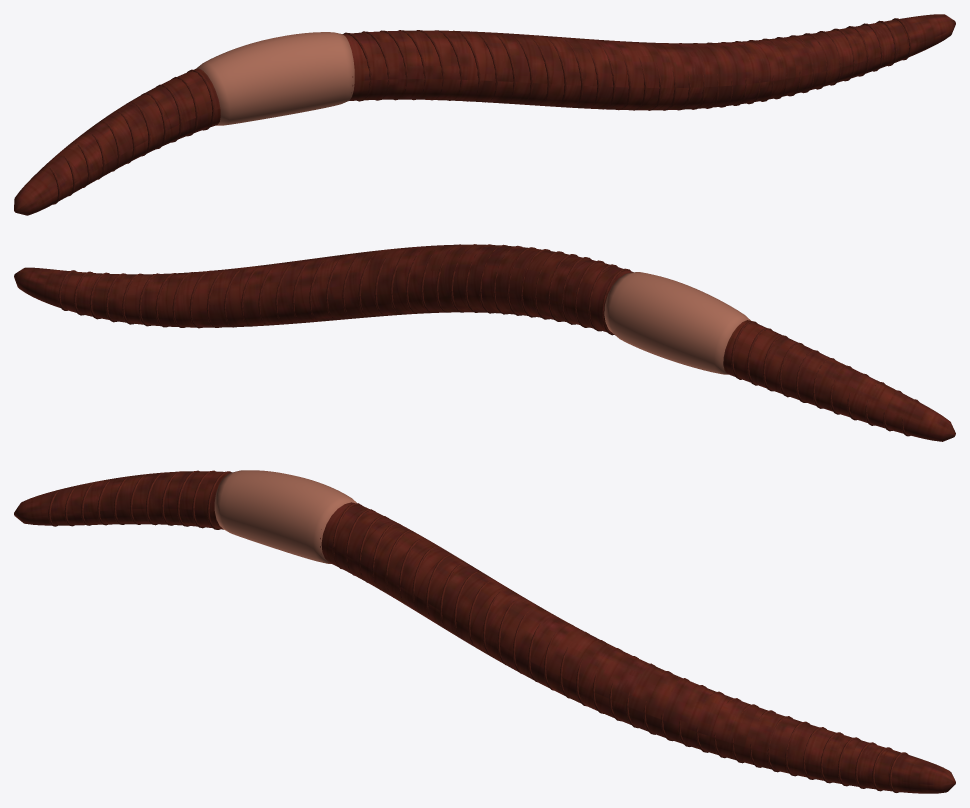
The model's file is worm.glb.
The picture shows the model from 3 angles, top to bottom: view 1: azimuth 30°, elevation 25°; view 2: azimuth 150°, elevation 25°; view 3: azimuth 330°, elevation 25°; orthographic projection. The views are drawn at different scales.
Parts seen in each view (by area): view 1: worm specimen; view 2: worm specimen; view 3: worm specimen.
Boxes of the visible parts, x1,y1,x2,y2 form: worm specimen: (14,14,955,215); worm specimen: (14,244,955,441); worm specimen: (14,470,955,793).
Bounding box in the file's own units: 2.04 × 0.3572 × 0.2488.
Materials: 2 (1 with a texture image).
